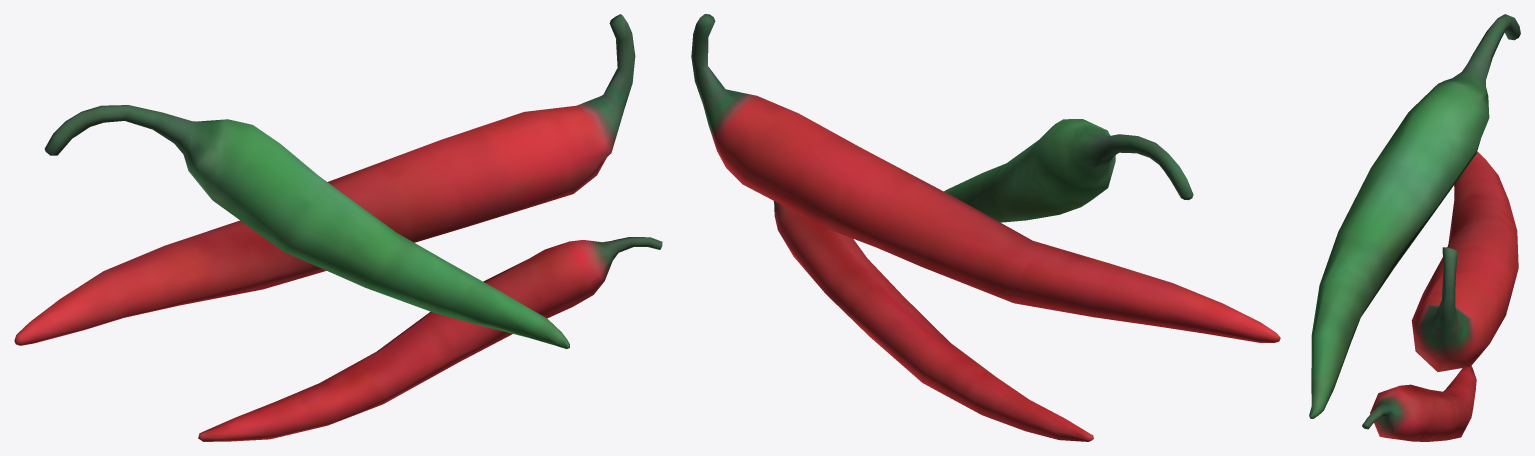
Rendered from Spice.glb.
3 renders of one model, left to right at view 1: azimuth 30°, elevation 25°; view 2: azimuth 150°, elevation 25°; view 3: azimuth 270°, elevation 25°, orthographic. The views are drawn at different scales.
Parts seen in each view (by area): view 1: spice_low; view 2: spice_low; view 3: spice_low.
Part boxes in pixels (x1,y1,x2,y2): spice_low: [14, 14, 662, 441]; spice_low: [691, 14, 1280, 441]; spice_low: [1309, 14, 1520, 441].
Size of the model in its own units: 1.04 by 0.5661 by 0.3353.
Materials: 1 (1 with a texture image).
